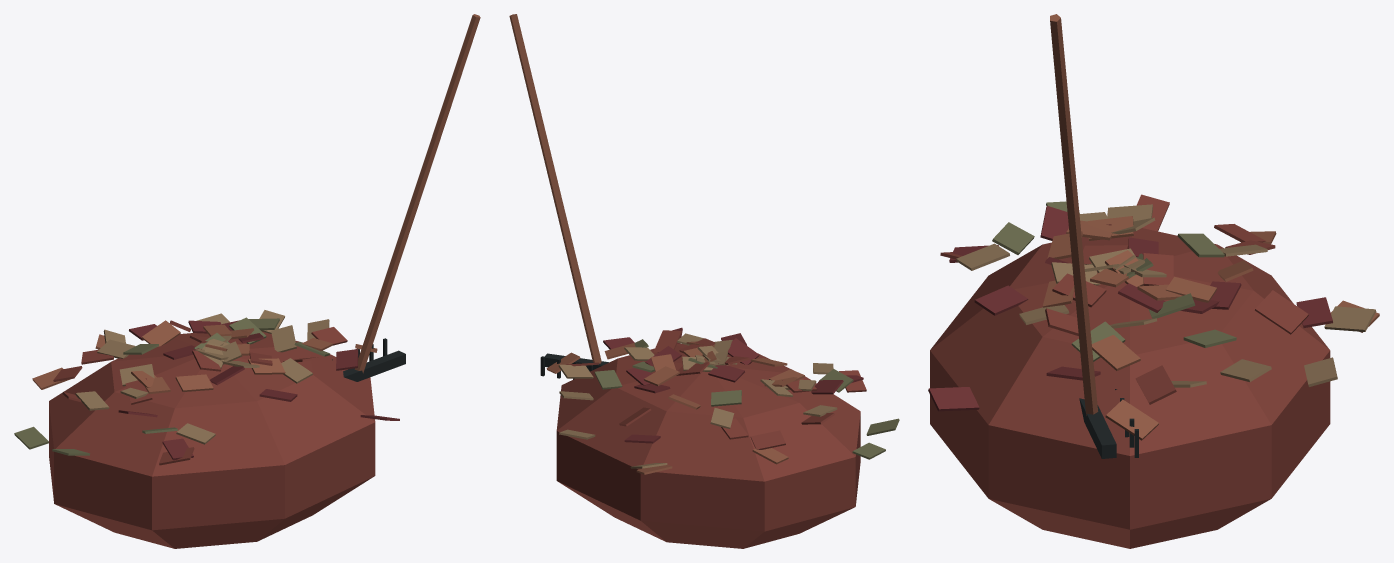
Rendered from gramada_frunze.glb.
3 renders of one model, left to right at view 1: azimuth 30°, elevation 25°; view 2: azimuth 150°, elevation 25°; view 3: azimuth 270°, elevation 25°, orthographic. The views are drawn at different scales.
Parts seen in each view (by area): view 1: Gramada; view 2: Gramada; view 3: Gramada.
Part boxes in pixels (x1=…): Gramada: x1=14, y1=14, x2=480, y2=548; Gramada: x1=509, y1=14, x2=899, y2=548; Gramada: x1=928, y1=14, x2=1379, y2=548.
Bounding box in the file's own units: 1.8 × 1.91 × 1.2.
